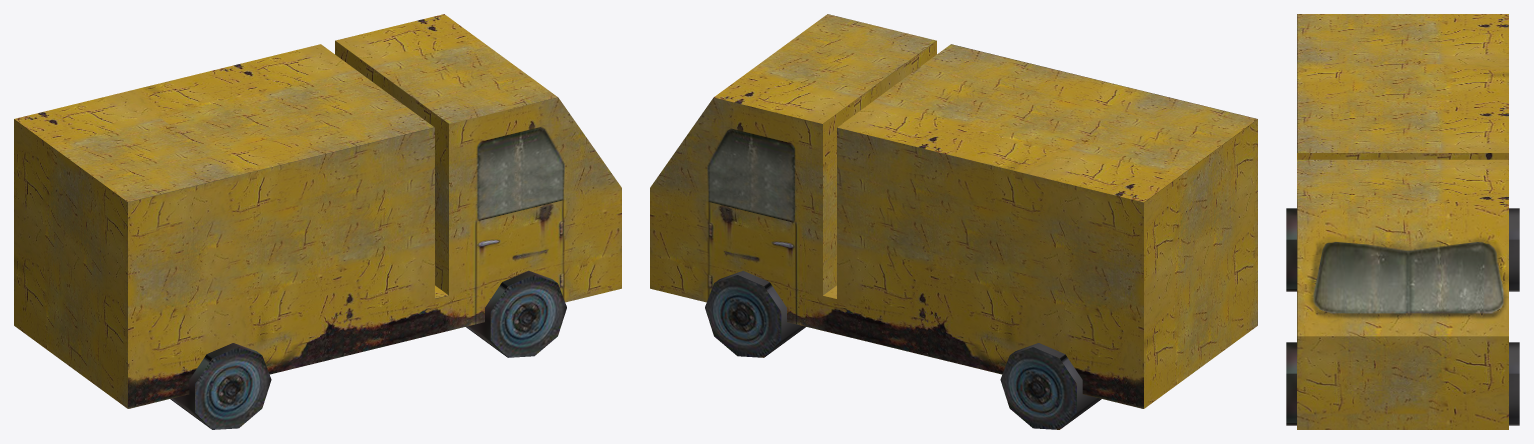
Rendered from truck.FBX.
3 views of the same model, side by side, from view 1: azimuth 30°, elevation 25°; view 2: azimuth 150°, elevation 25°; view 3: azimuth 270°, elevation 25° (orthographic). The views are drawn at different scales.
Visible parts, largest first — view 1: truck, wheels02, wheels1; view 2: truck, wheels02, wheels1; view 3: truck, wheels1, wheels02.
Boxes of the visible parts, <box> form: truck: <box>14,14,621,408</box>; wheels02: <box>170,343,271,429</box>; wheels1: <box>466,270,566,357</box>; truck: <box>650,14,1257,408</box>; wheels02: <box>1000,343,1101,429</box>; wheels1: <box>705,270,805,357</box>; truck: <box>1297,14,1508,429</box>; wheels1: <box>1286,342,1519,425</box>; wheels02: <box>1286,208,1519,291</box>.
Size of the model in its own units: 25 by 11.97 by 11.
Materials: 1 (1 with a texture image).
